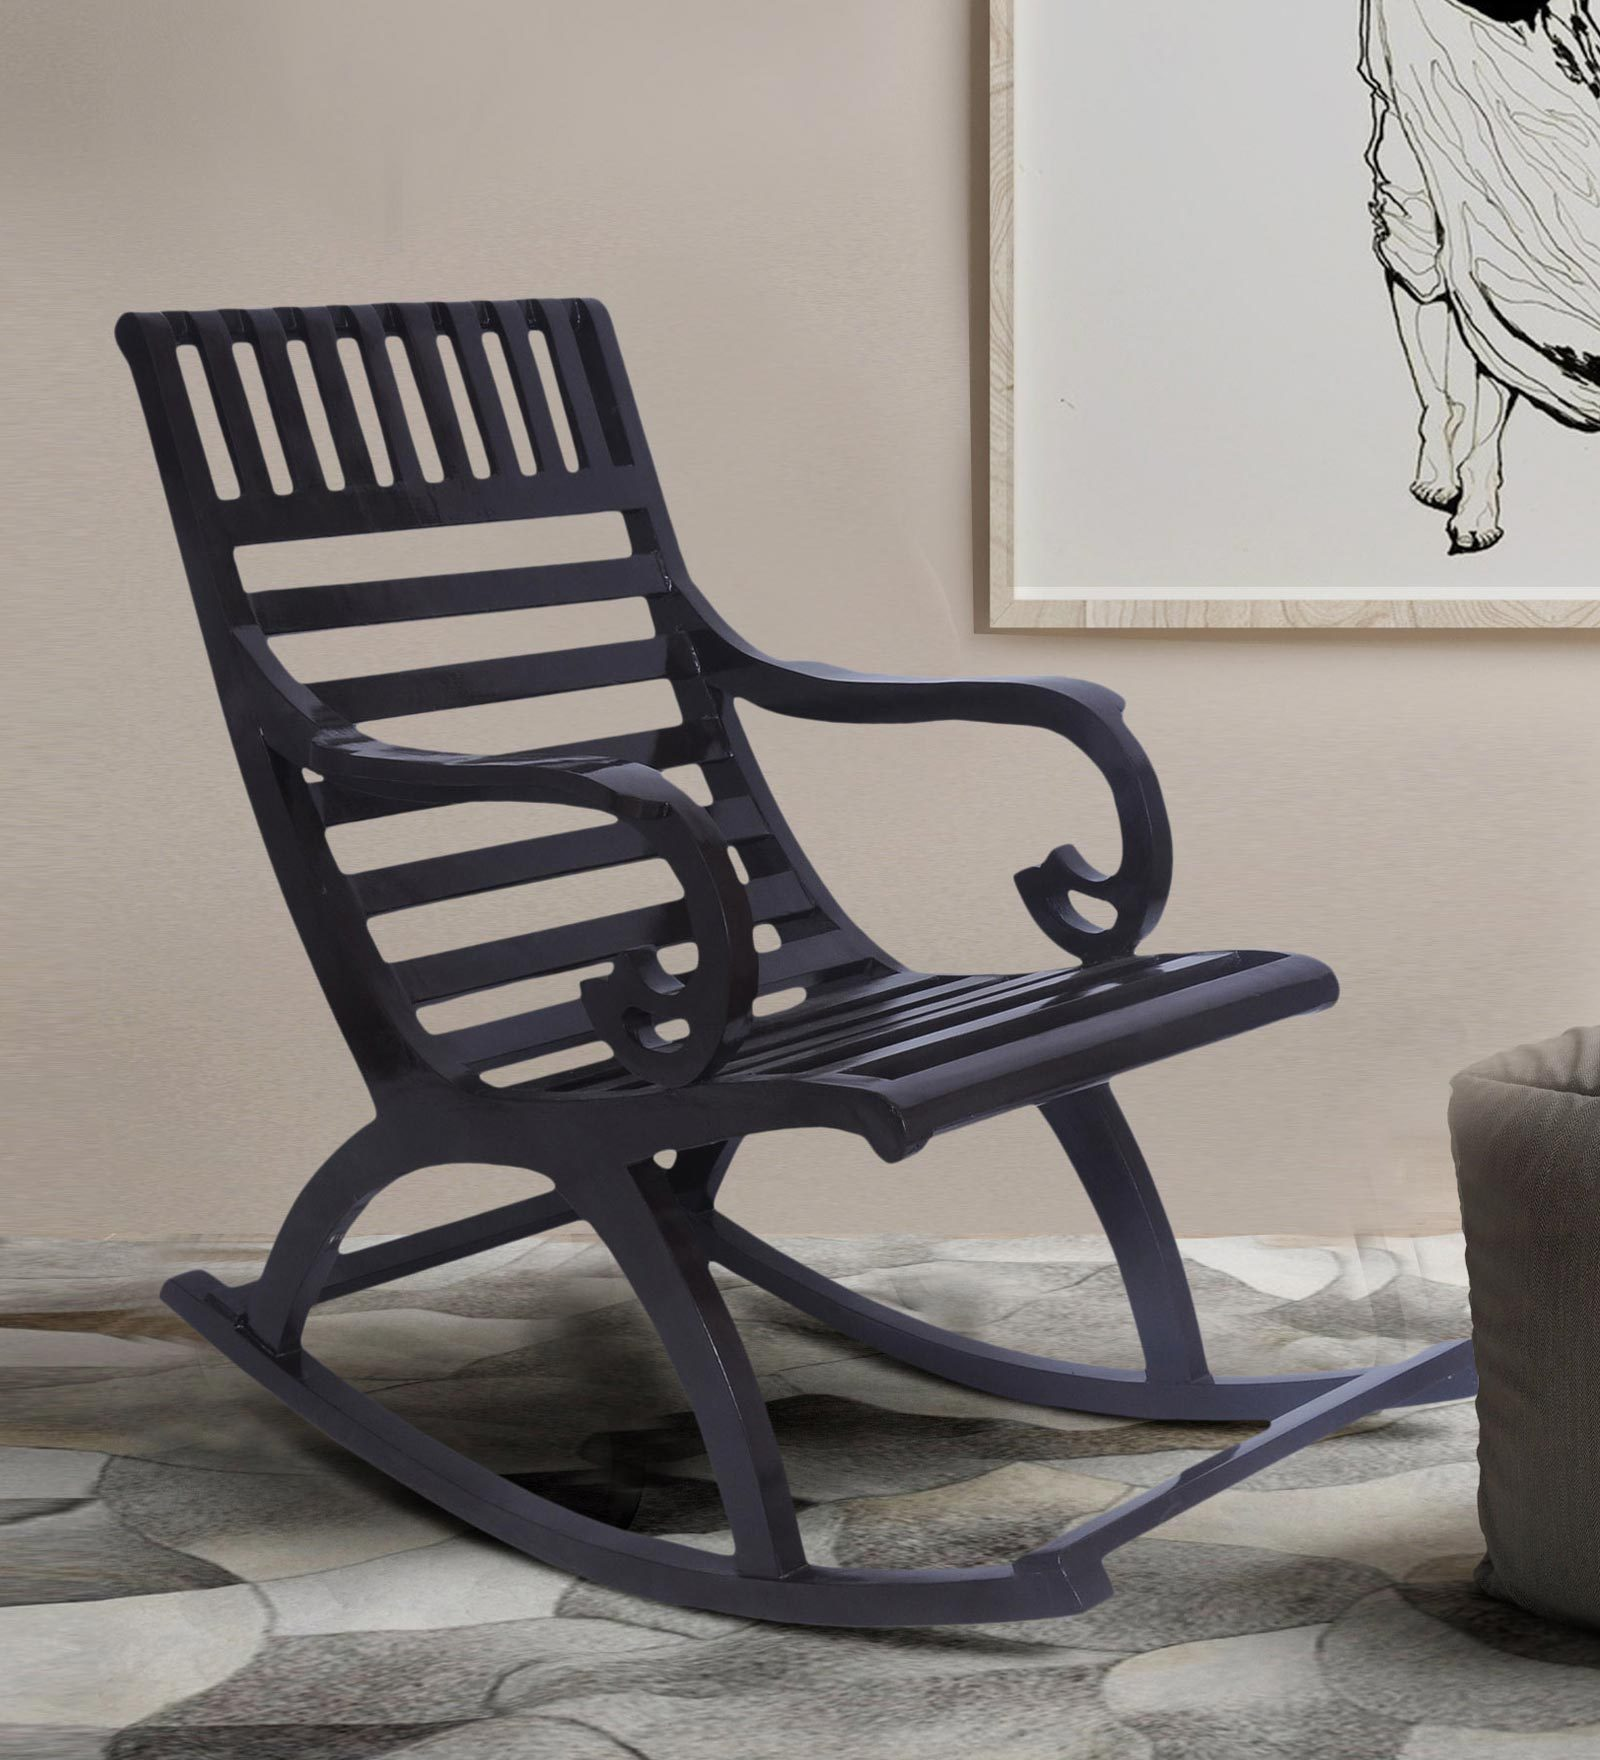Teak Wood Rocking Chair in Walnut Finish by Furniease: (64, 231, 1453, 1691)
